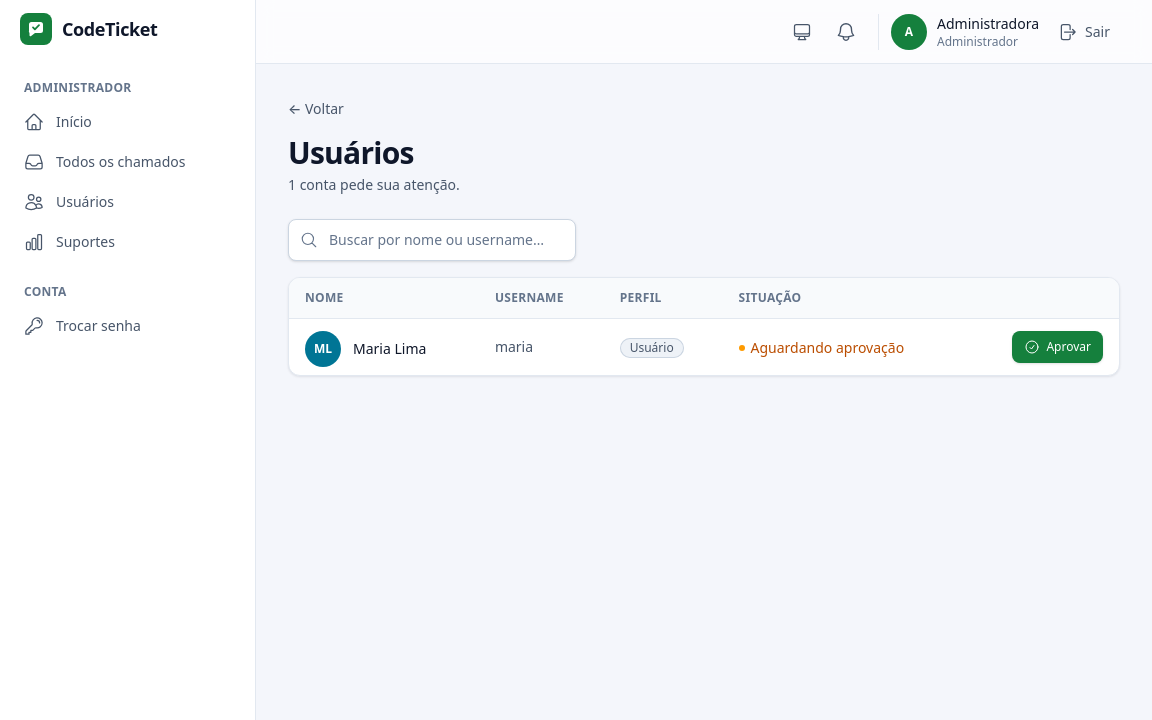
Test: UsersView › approves a pending account and shows it active
The width and height of the screenshot is (1152, 720).
What coordinates should you click on to do the following:
click the button with aria-label "Aprovar Maria Lima"
I would click on:
 (1058, 347)
Its box is [1012,331,1103,363].
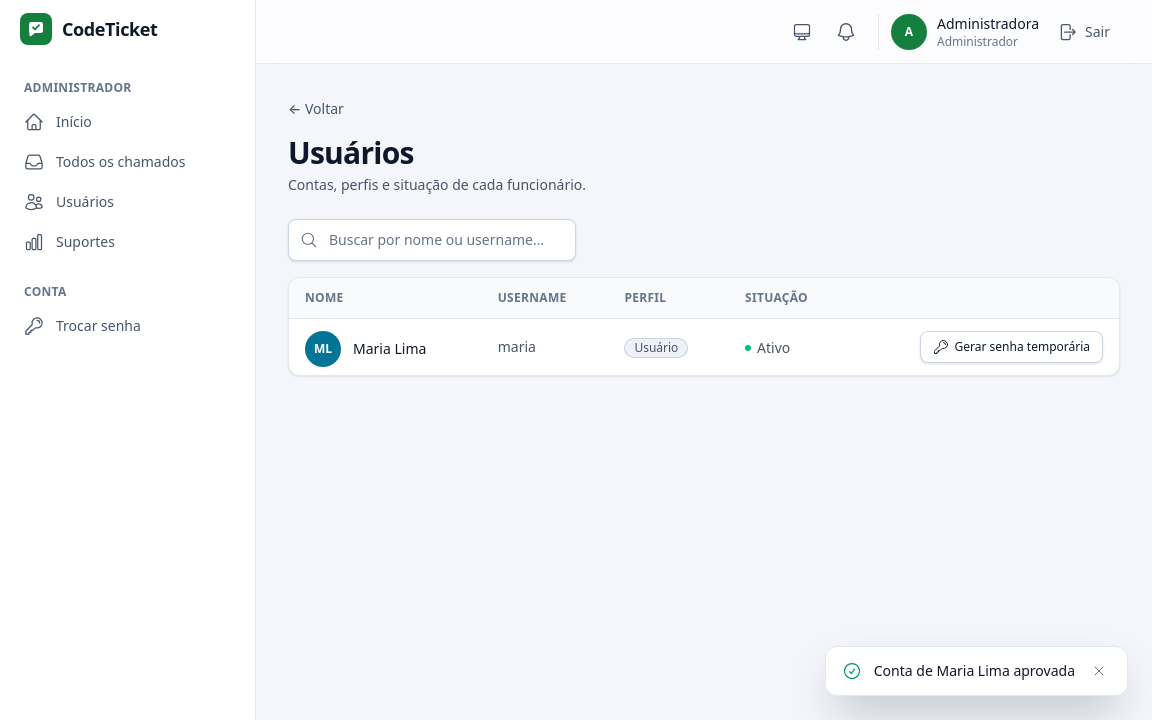
Now the text "Ativo" is shown, box [745,338,790,358]
